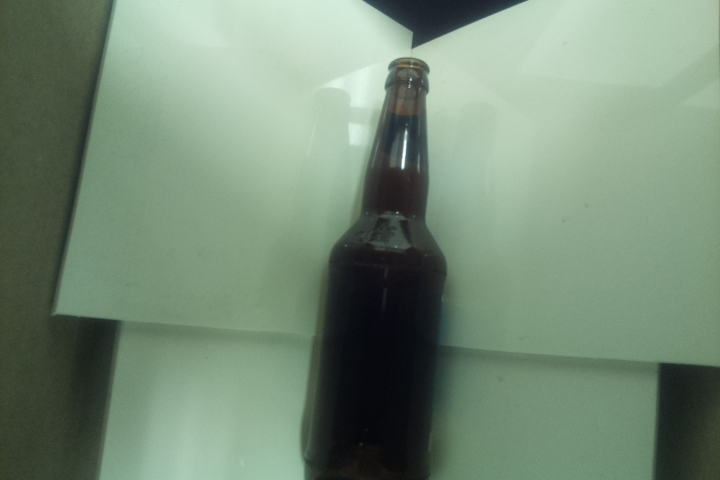makju: (299, 55, 450, 480)
